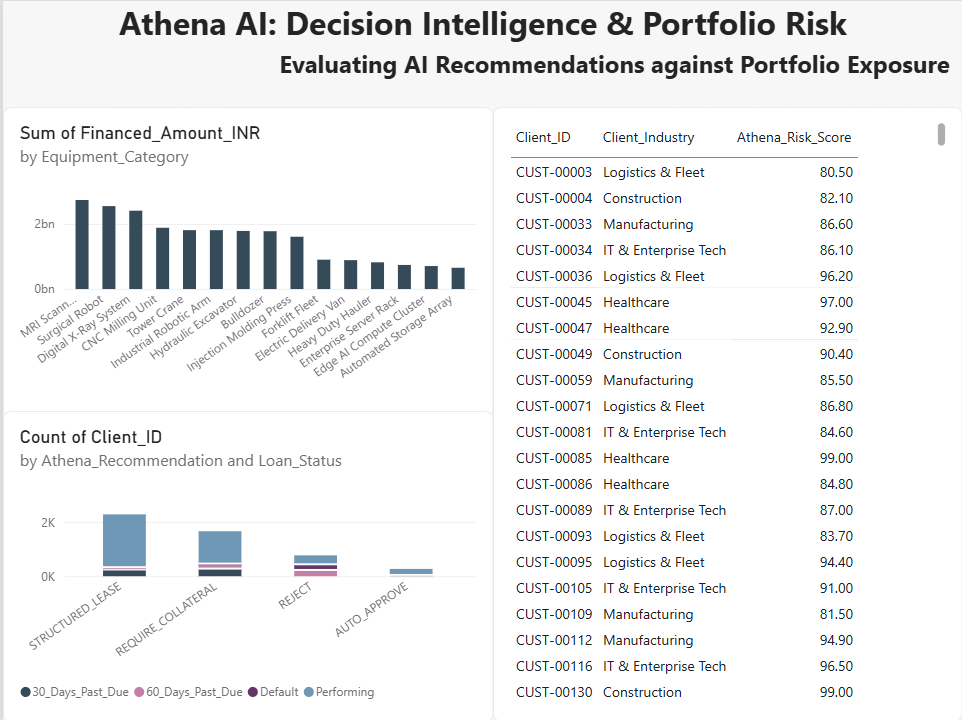

This screenshot's page, from the dashboard's own definition file:
{"tool":"powerbi","page":{"name":"Page 1","canvas":[960,720],"ordinal":0},"visuals":[{"type":"tableEx","fields":{"Values":["dim_clients.Client_ID","dim_clients.Client_Industry","fact_contracts.Athena_Risk_Score"]},"box":[490,105.7,470,614.3],"z":0},{"type":"clusteredColumnChart","fields":{"Category":["dim_equipment.Equipment_Category"],"Y":["Sum(fact_contracts.Financed_Amount_INR)"]},"box":[0,105.7,490,310],"z":1000},{"type":"columnChart","fields":{"Category":["fact_contracts.Athena_Recommendation"],"Series":["fact_contracts.Loan_Status"],"Y":["CountNonNull(dim_clients.Client_ID)"]},"box":[0,410,490,311.4],"z":2000},{"type":"textbox","box":[0,0,960,45.7],"z":3000},{"type":"textbox","box":[427.1,45.7,532.9,51.4],"z":4000},{"type":"textbox","box":[276.2,46.2,683.8,35],"z":5000}]}

Visuals, with their boxes in screenshot pixels (x1, y1, x2, y2), scaled from the page's 960x720 canvas onto the 962x720 screenshot:
tableEx - dim_clients.Client_ID x dim_clients.Client_Industry: region(491, 106, 961, 719)
clusteredColumnChart - dim_equipment.Equipment_Category x Sum(fact_contracts.Financed_Amount_INR): region(0, 106, 491, 416)
columnChart - fact_contracts.Athena_Recommendation x fact_contracts.Loan_Status: region(0, 410, 491, 719)
textbox: region(0, 0, 961, 46)
textbox: region(428, 46, 961, 97)
textbox: region(277, 46, 961, 81)
